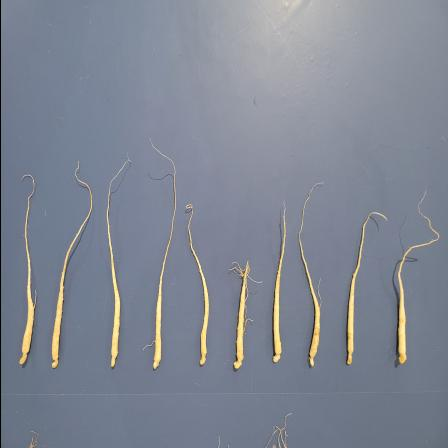Ginseng: (47, 161, 91, 369), (394, 189, 438, 367), (342, 210, 388, 367), (148, 140, 176, 370), (104, 157, 130, 370), (297, 182, 324, 372), (183, 202, 210, 366), (18, 168, 38, 368), (270, 203, 286, 365), (230, 265, 247, 371)
head: (18, 350, 28, 364), (272, 350, 281, 364), (344, 349, 352, 364), (232, 356, 242, 368), (397, 352, 406, 365), (308, 353, 316, 367), (110, 353, 118, 367), (152, 358, 160, 370), (50, 356, 58, 368), (198, 354, 206, 365)
